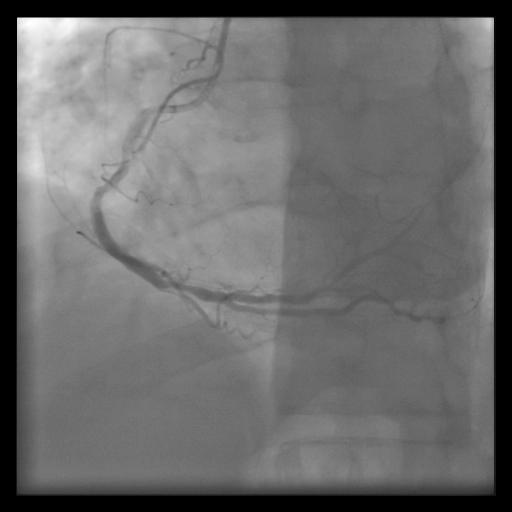Stenosis: (166, 272, 206, 300)
